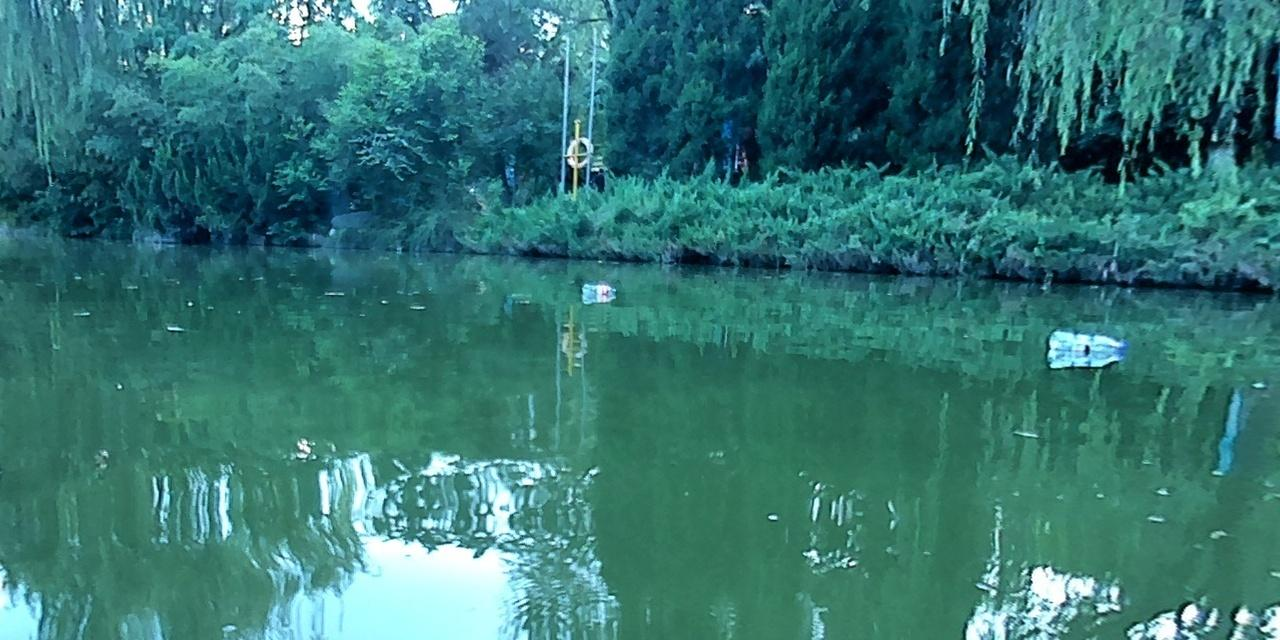bottle: (1050, 329, 1126, 353), (580, 279, 615, 294)
